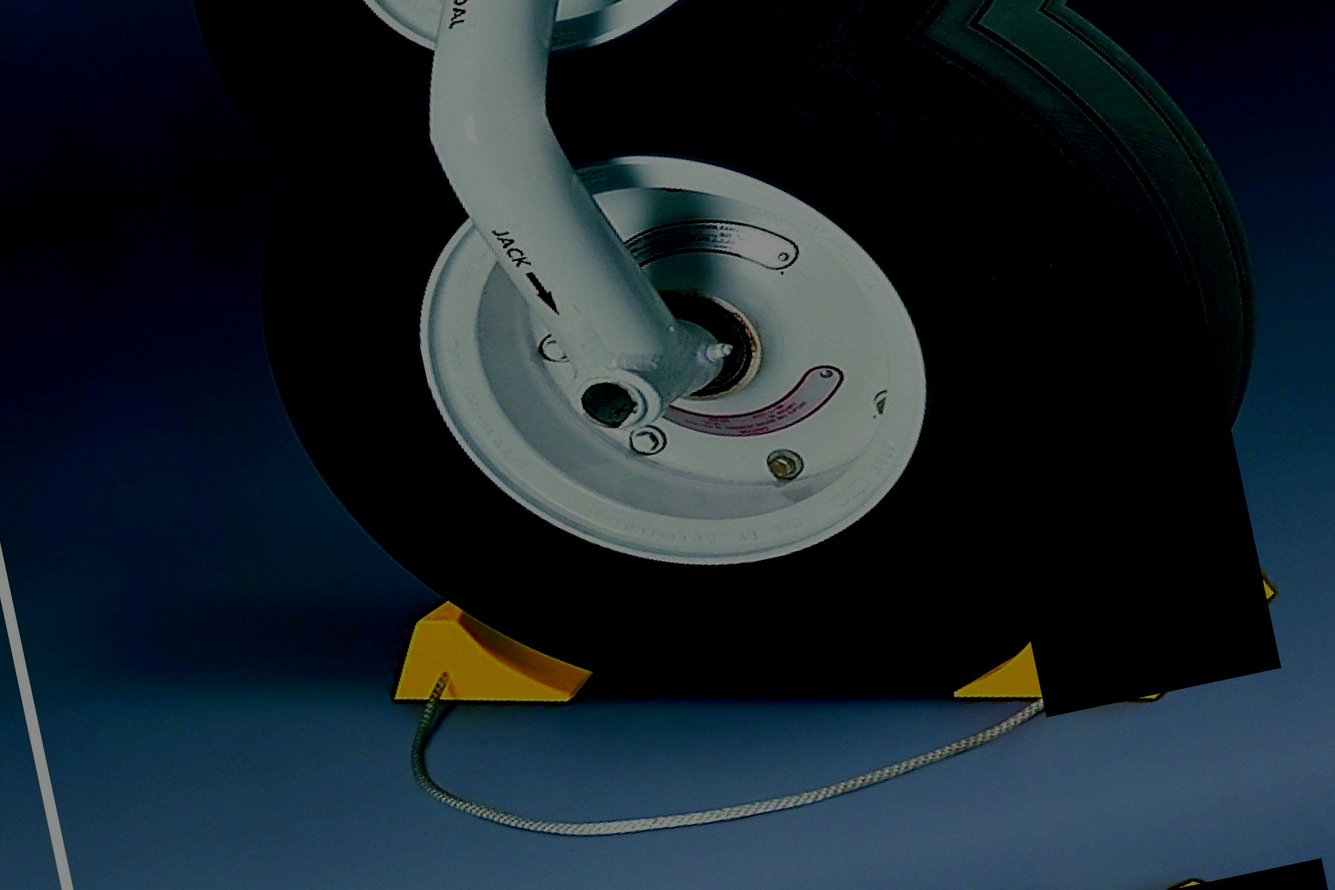chock: (922, 492, 1299, 743), (374, 570, 600, 739)
wheel: (222, 0, 1328, 805)
